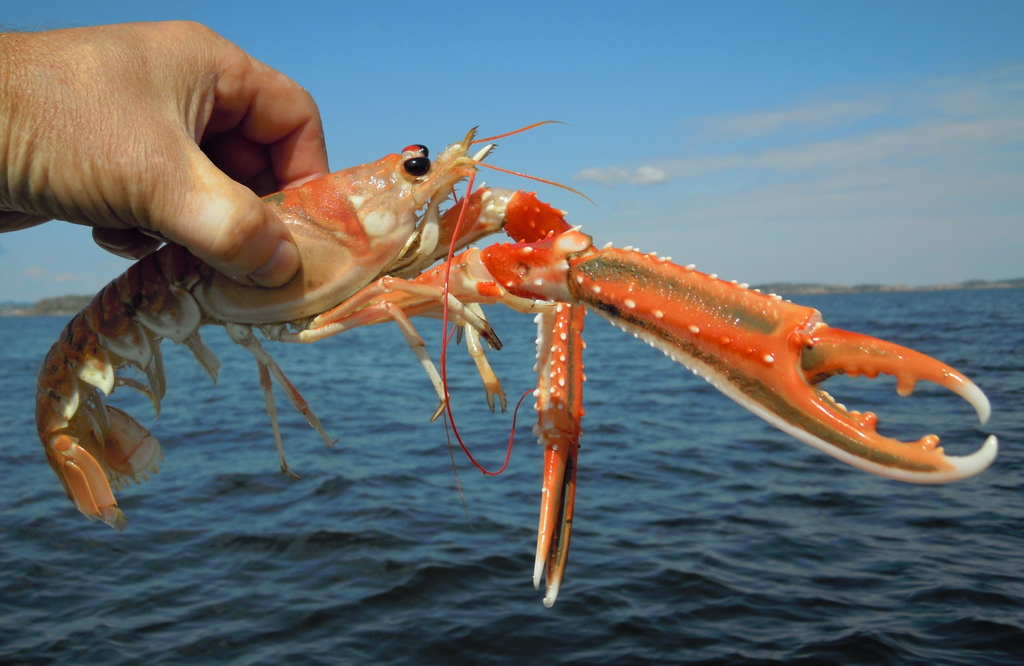person: (0, 18, 351, 315)
